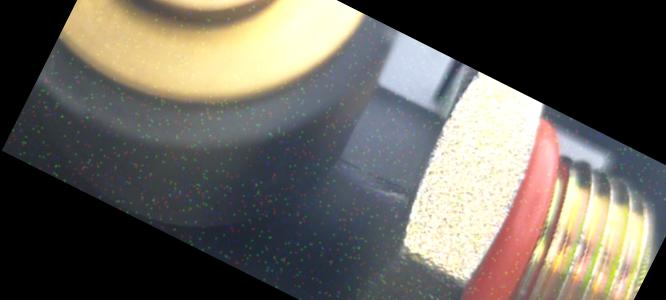joint line: (334, 149, 413, 195)
white mark: (365, 178, 407, 206)
